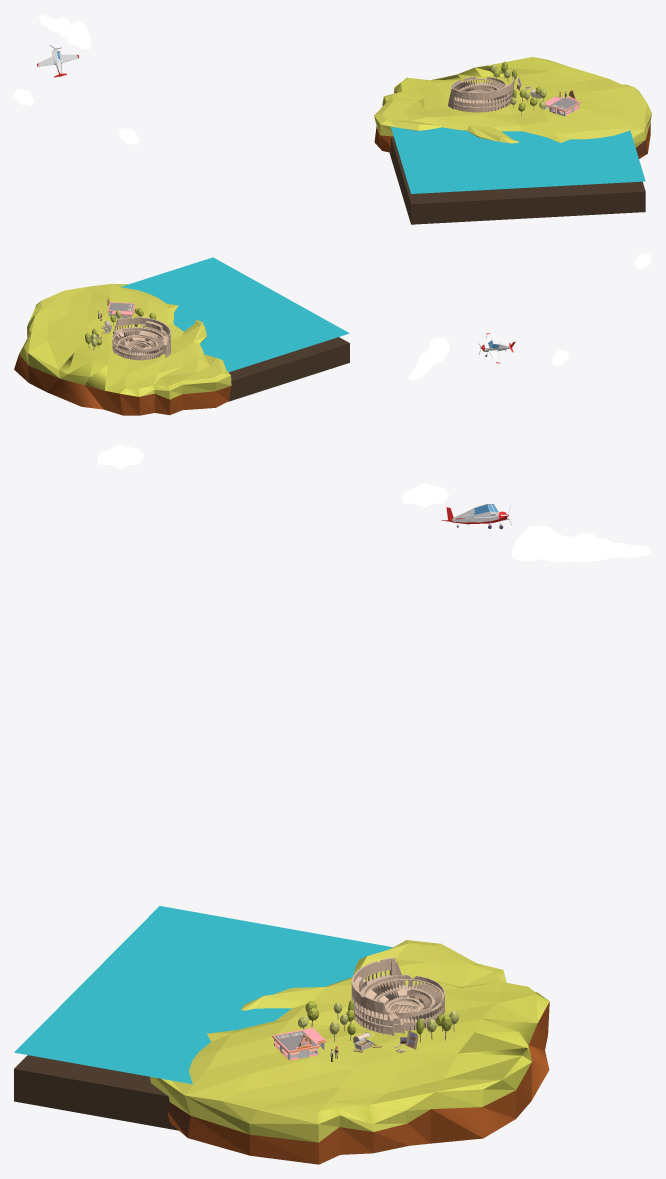
File: Country_Italia.glb
3 views of the same model, one above another, from view 1: azimuth 30°, elevation 25°; view 2: azimuth 150°, elevation 25°; view 3: azimuth 270°, elevation 25° (orthographic). The views are drawn at different scales.
Parts seen in each view (by area): view 1: tile-water.001, country, newsBox, cloud-long.001, foodBox; view 2: country, tile-water.001, newsBox, cloud-long.001, foodBox; view 3: country, tile-water.001, newsBox, cloud-long.001, foodBox.
Part boxes in pixels (x1,y1,x2,y2): tile-water.001: [389, 127, 645, 224]; country: [37, 45, 651, 158]; newsBox: [448, 76, 513, 112]; cloud-long.001: [39, 14, 91, 49]; foodBox: [544, 90, 580, 116]; country: [14, 283, 515, 415]; tile-water.001: [121, 257, 349, 401]; newsBox: [112, 317, 170, 360]; cloud-long.001: [408, 337, 449, 380]; foodBox: [107, 297, 135, 319]; country: [150, 503, 549, 1164]; tile-water.001: [14, 906, 392, 1130]; newsBox: [351, 957, 444, 1035]; cloud-long.001: [512, 526, 651, 562]; foodBox: [272, 1028, 326, 1060].
Size of the model in its own units: 6.46 by 1.84 by 3.8.
Materials: 50 (6 with a texture image).
